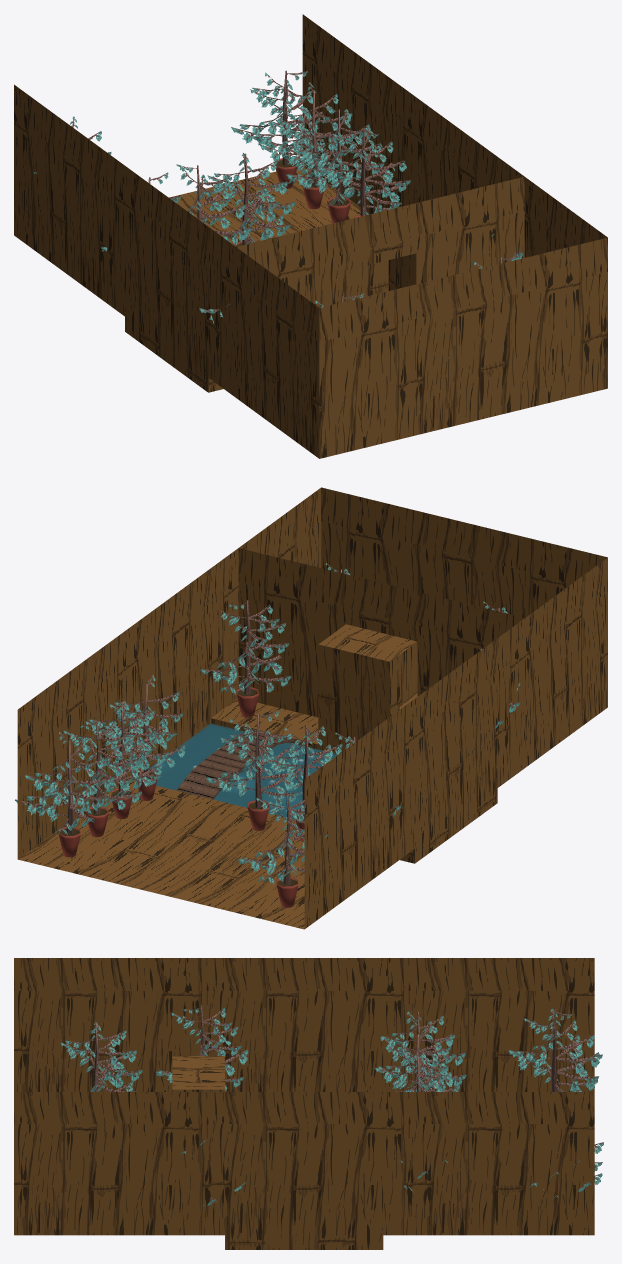
The model's file is sh18_secret.glb.
3 renders of one model, top to bottom at view 1: azimuth 30°, elevation 25°; view 2: azimuth 150°, elevation 25°; view 3: azimuth 270°, elevation 25°, orthographic. The views are drawn at different scales.
Visible parts, largest first — view 1: Plane, Cube.006, Cube.005, Cube.008, Cube.004, Cube.007, Cube.003; view 2: Plane, Plane.001, Cube.004, Cube.008, Cube.011, Cube.007, Cube.006, Cube.009, Plane.002, Cube.005, Cube.003; view 3: Plane, Cube.009, Cube.012, Cube.002, Cube.010, Cube.003, Cube.004.
Part boxes in pixels (x1,y1,x2,y2): Plane: (14,14,607,458); Cube.006: (286,102,384,223); Cube.005: (317,127,410,218); Cube.008: (231,70,336,188); Cube.004: (207,153,295,246); Cube.007: (260,82,355,209); Cube.003: (176,164,251,242); Plane: (17,487,607,929); Plane.001: (134,723,337,819); Cube.004: (205,711,310,830); Cube.008: (15,732,114,857); Cube.011: (200,600,291,717); Cube.007: (54,719,141,837); Cube.006: (82,700,169,818); Cube.009: (237,790,330,907); Plane.002: (176,730,294,799); Cube.005: (103,675,185,800); Cube.003: (261,725,342,841); Plane: (14,958,594,1249); Cube.009: (508,1008,602,1091); Cube.012: (60,1022,142,1091); Cube.002: (380,1011,466,1091); Cube.010: (156,1004,248,1091); Cube.003: (375,1027,453,1091); Cube.004: (395,1050,460,1091).
Size of the model in its own units: 6.6 by 3.3 by 11.25.
Materials: 7 (4 with a texture image).
